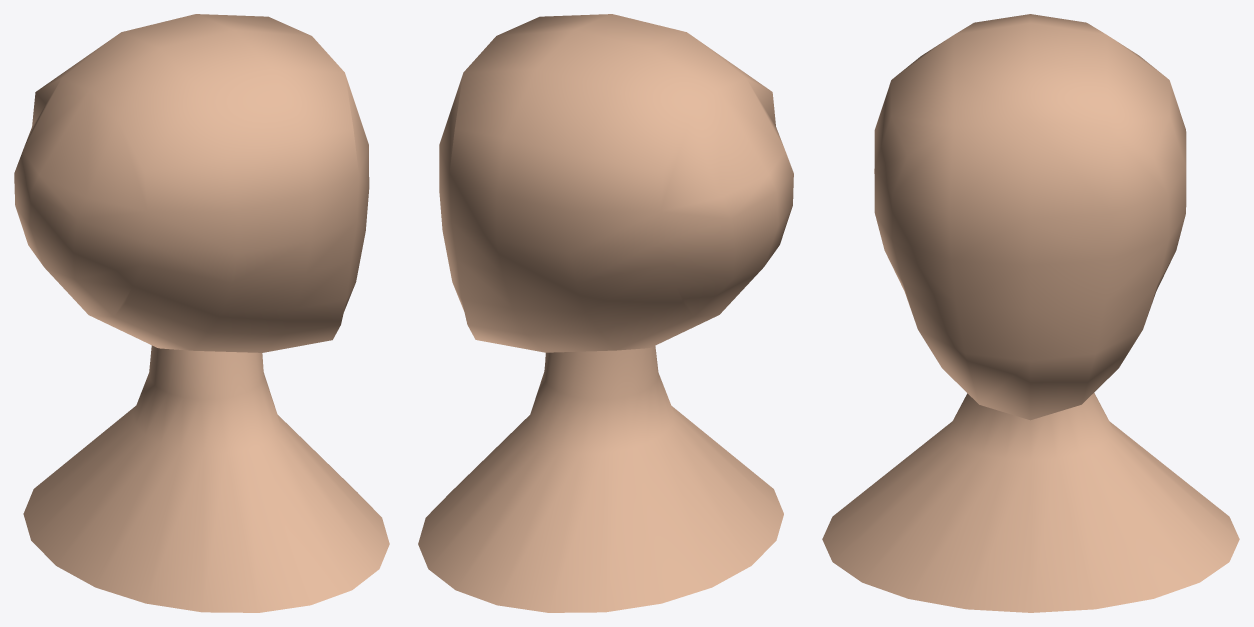
Rendered from stage_Mannequin.fbx.
3 renders of one model, left to right at view 1: azimuth 30°, elevation 25°; view 2: azimuth 150°, elevation 25°; view 3: azimuth 270°, elevation 25°, orthographic.
Visible parts, largest first — view 1: Head1, body1; view 2: Head1, body1; view 3: Head1, body1.
Boxes of the visible parts, x1,y1,x2,y2 form: Head1: (14,14,369,352); body1: (23,345,389,612); Head1: (439,14,793,352); body1: (418,346,783,612); Head1: (874,14,1186,420); body1: (822,393,1239,612).
Size of the model in its own units: 317 by 464 by 350.
